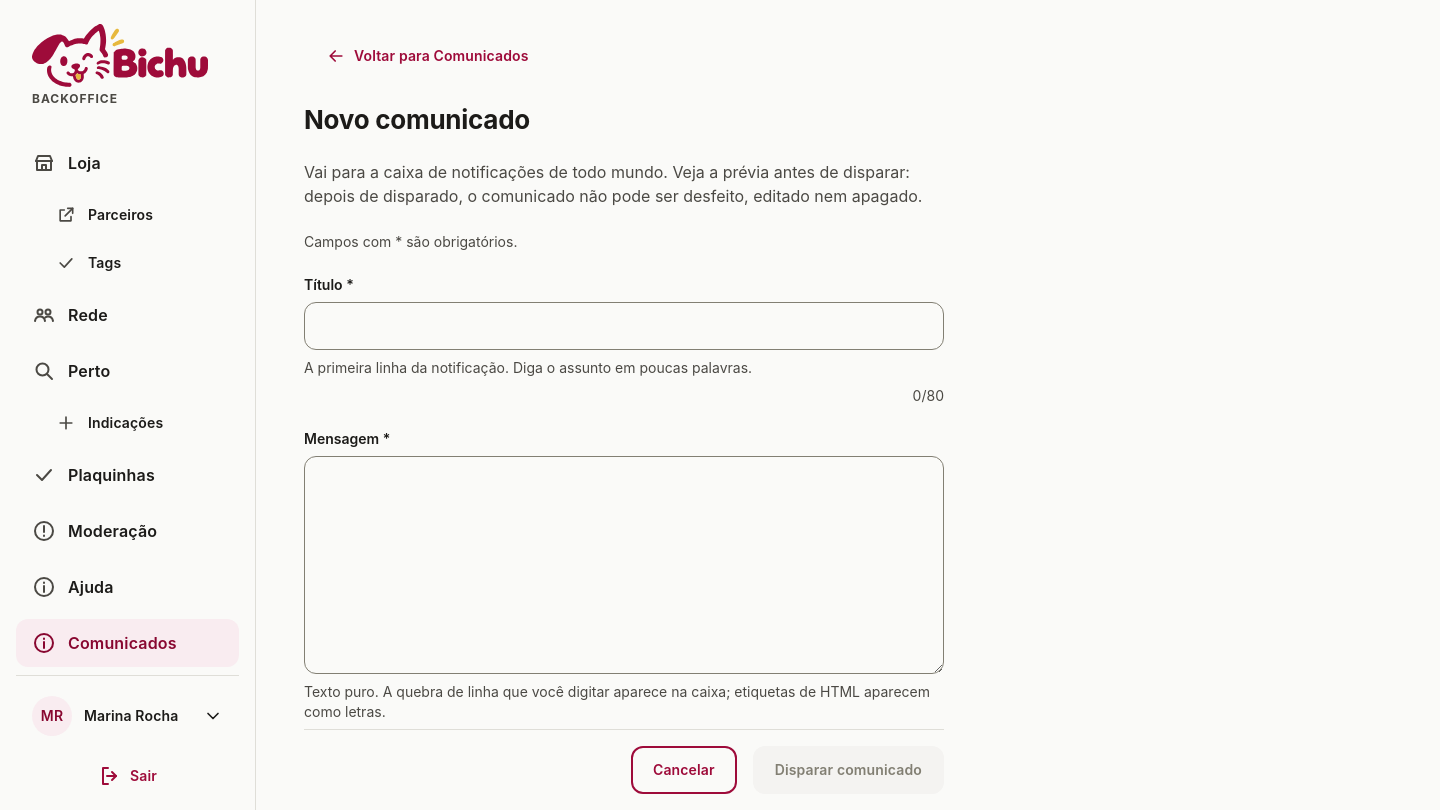
comunicado: a previa e a condicao do disparo › CONTRAPESO: com a previa do texto atual, o disparo abre e o POST leva o titulo e o corpo digitados
Type "Mutirão de castração no sábado" into the field labelled "Título *" at (624, 326), box [304, 302, 944, 350]
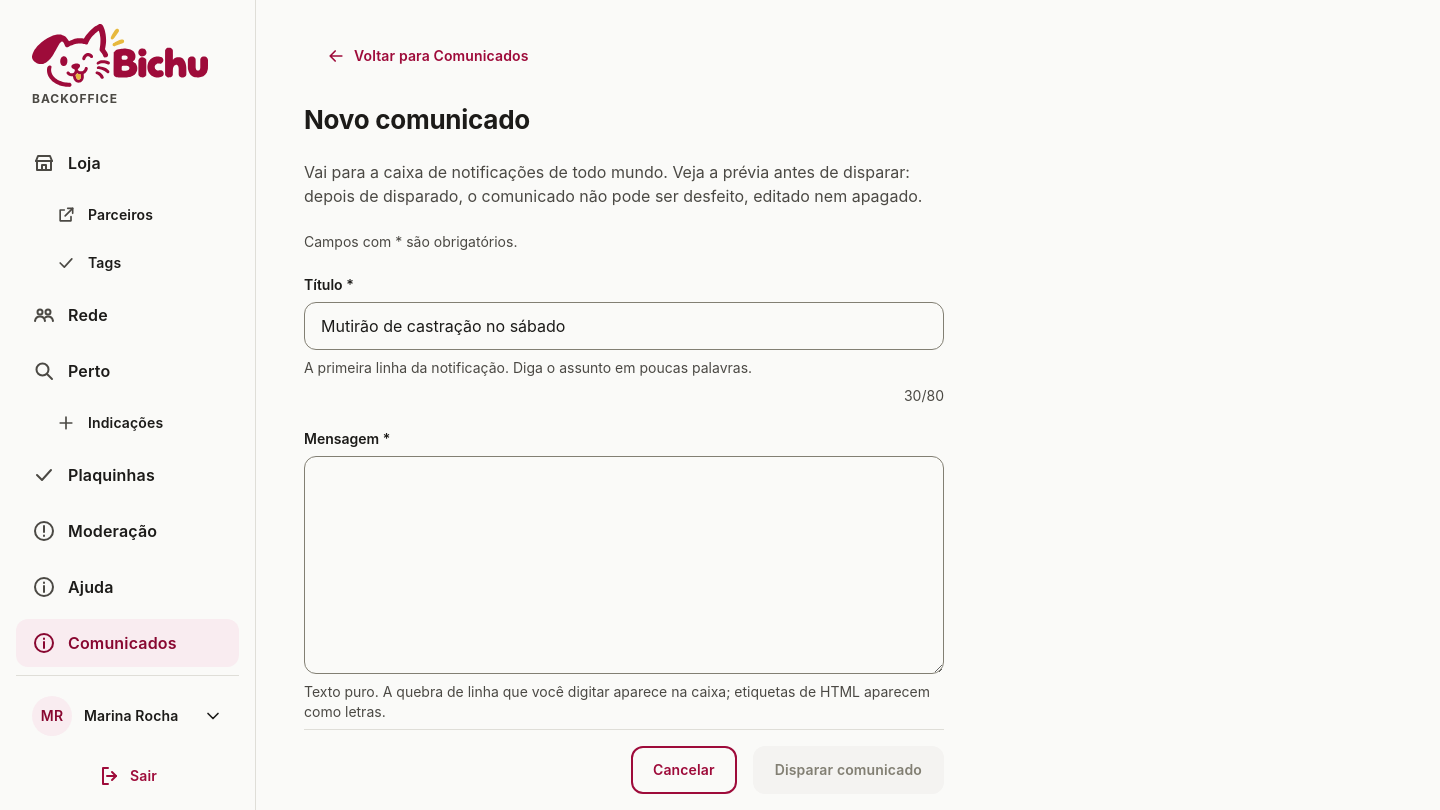
Type "A prefeitura abriu 120 vagas para castração gratuita." into the text box labelled "Mensagem *" at (624, 565), box [304, 456, 944, 674]
(page scrolled)
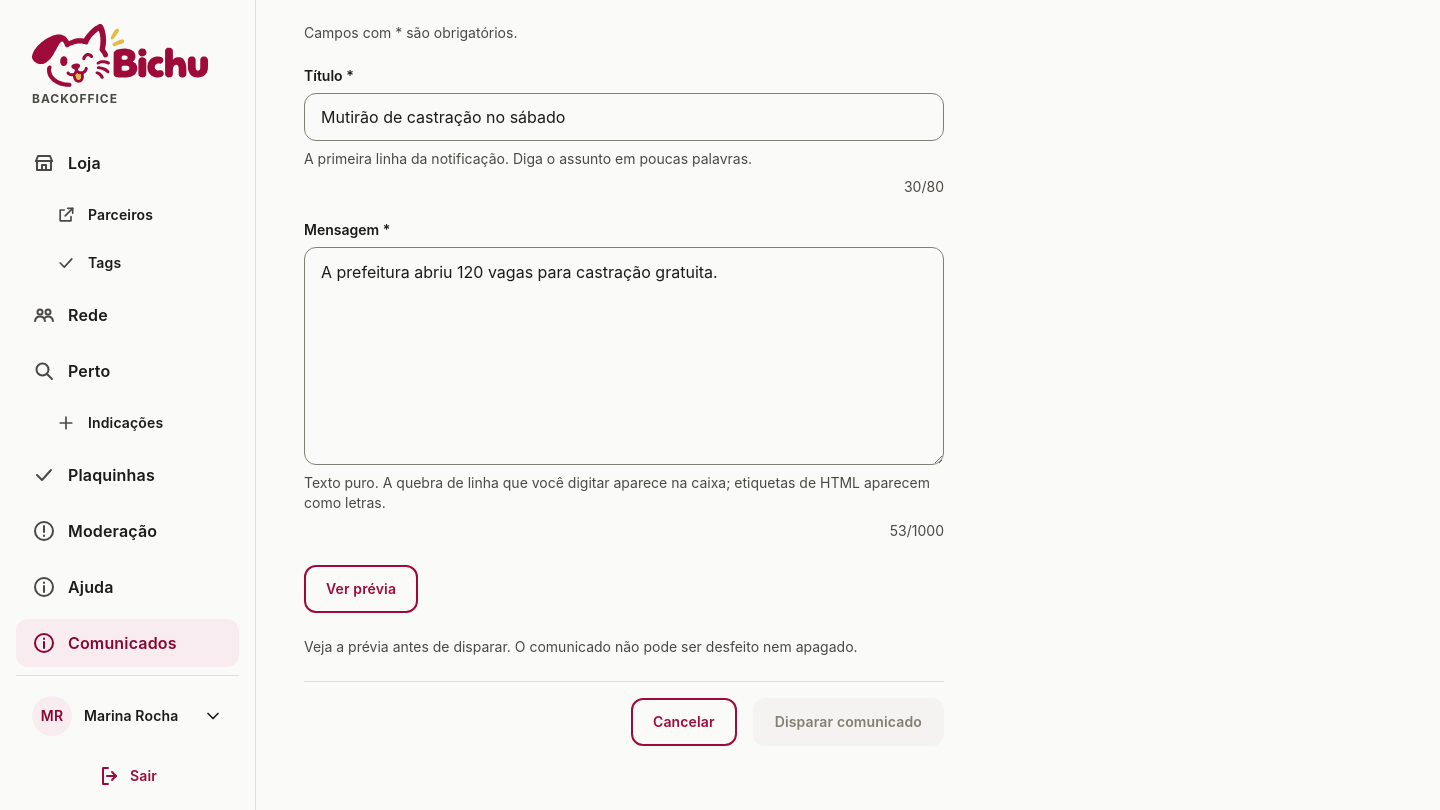
Click the button "Ver prévia" at (361, 589), box [304, 565, 418, 613]
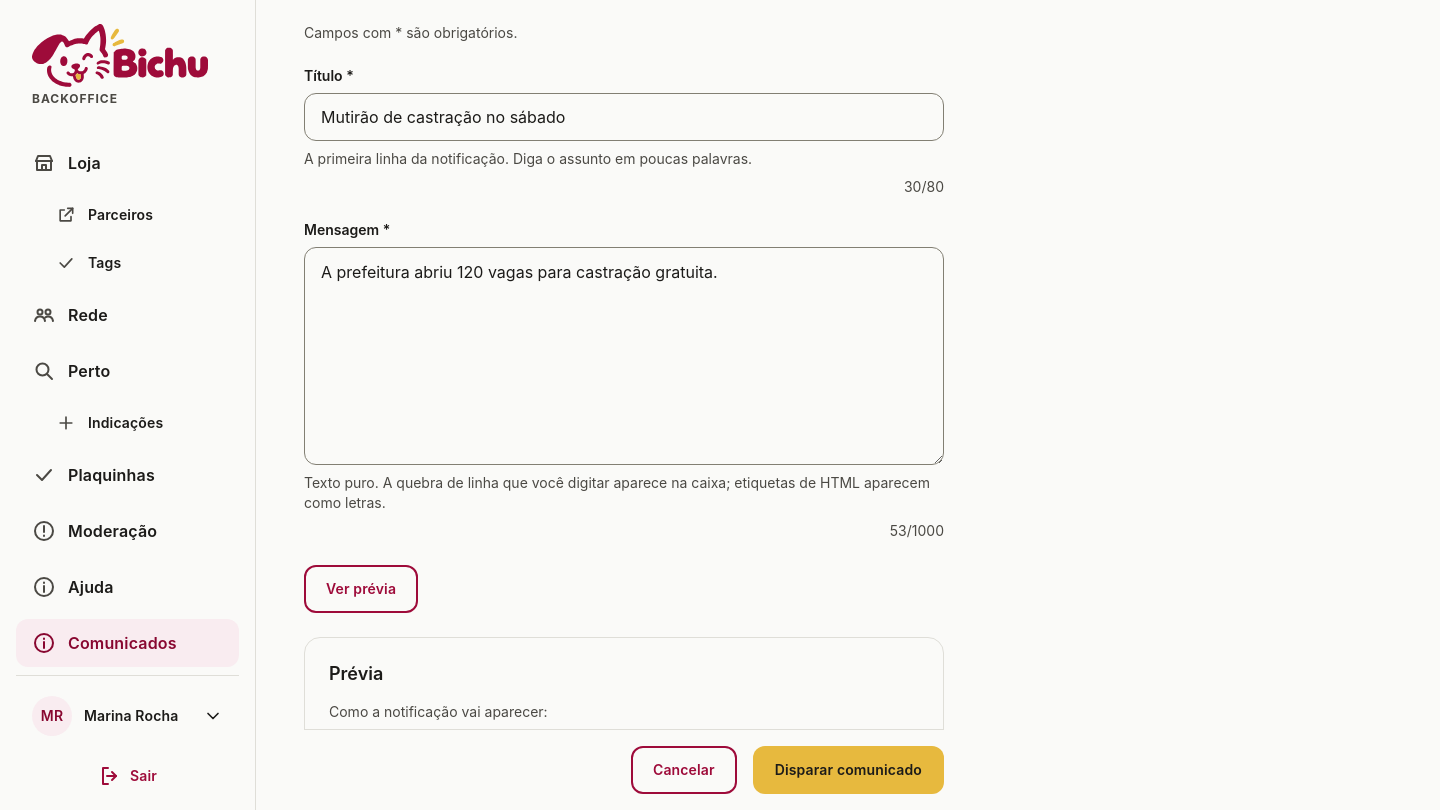
Expected: the text "A prefeitura abriu 120 vagas para castração gratuita." is shown, [329, 768, 726, 788]
Expected: the button "Disparar comunicado" is enabled
Click the button "Disparar comunicado" at (848, 770), box [753, 746, 944, 794]
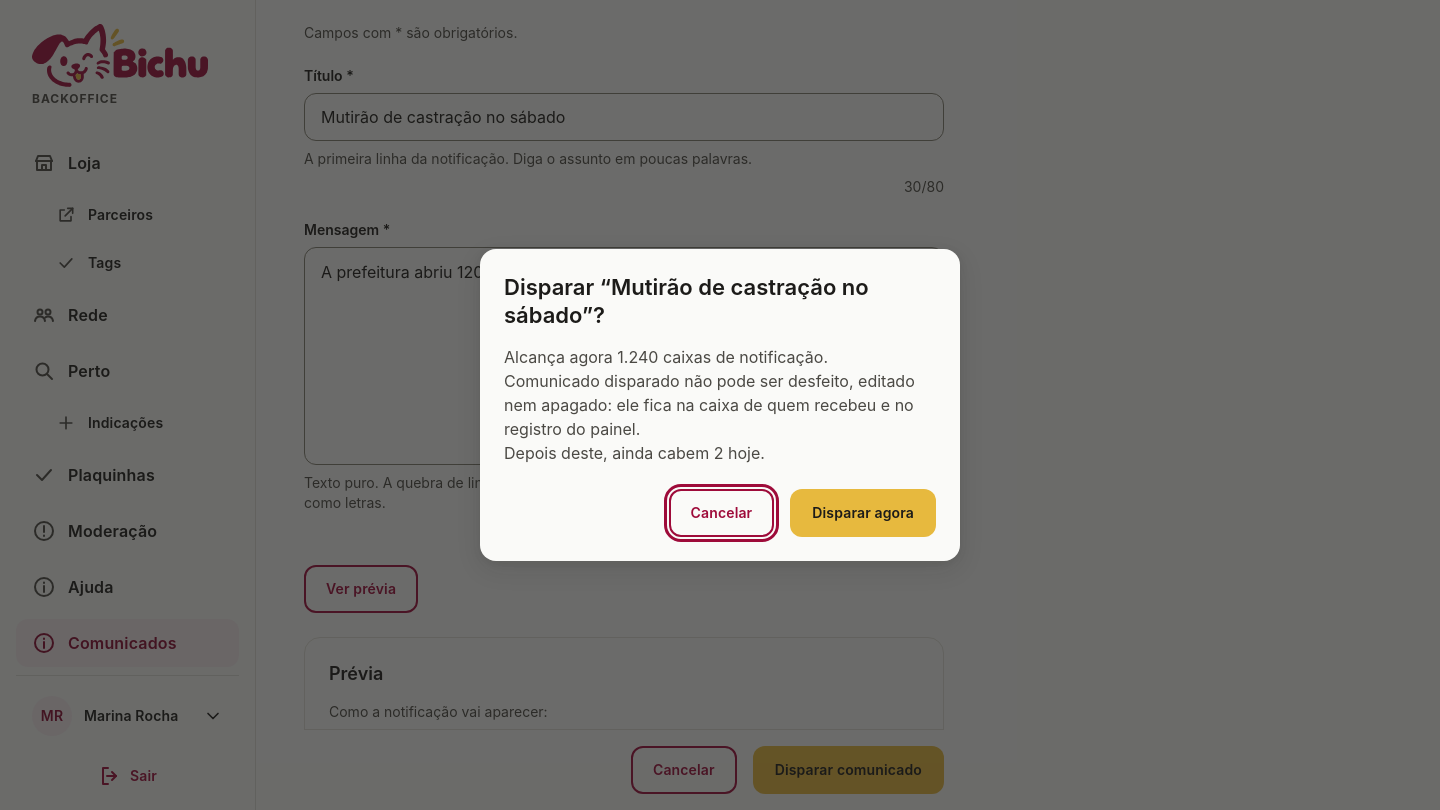
Click the button "Disparar agora" at (863, 513), box [790, 489, 936, 537]
(page scrolled)
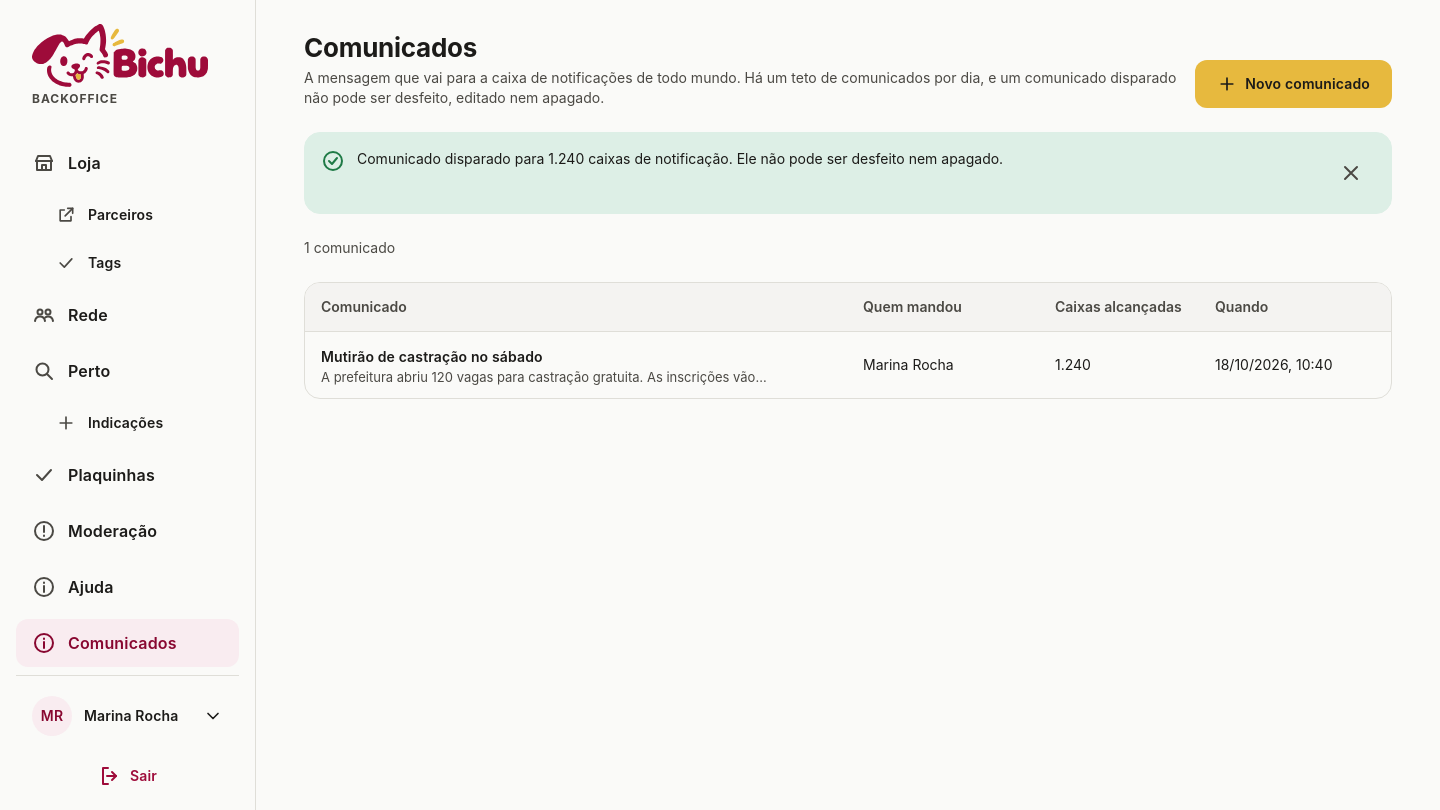
Expected: the text "Comunicado disparado para 1.240 caixas de notificação" is shown, [357, 150, 1003, 167]
